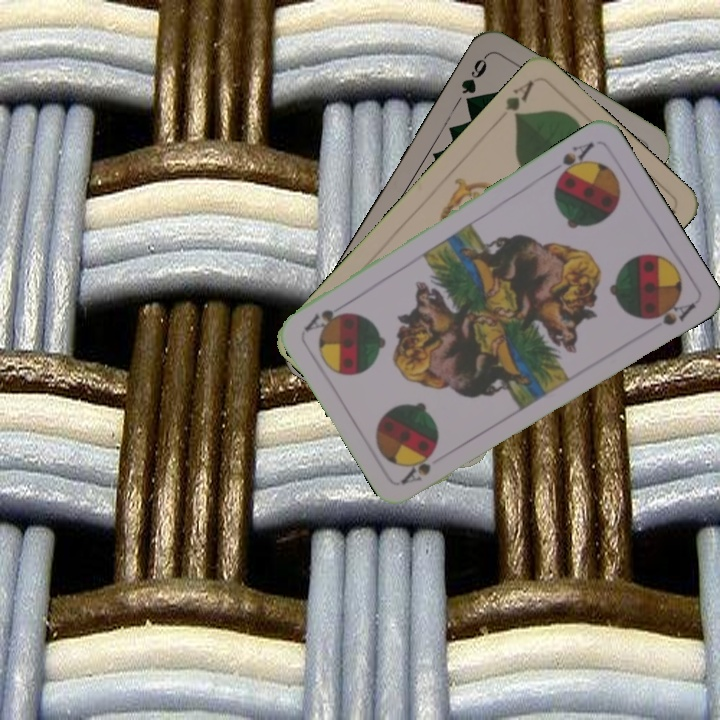G9: (457, 51, 490, 110)
GA: (501, 76, 537, 123)
SA: (545, 137, 597, 184), (397, 450, 436, 487)
